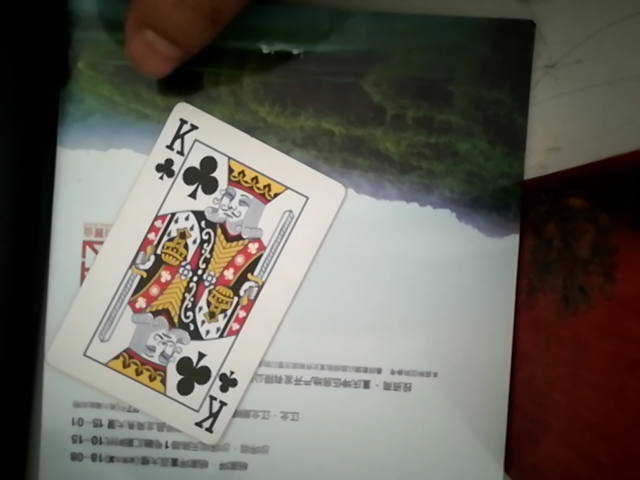mh k: (44, 101, 334, 437)
